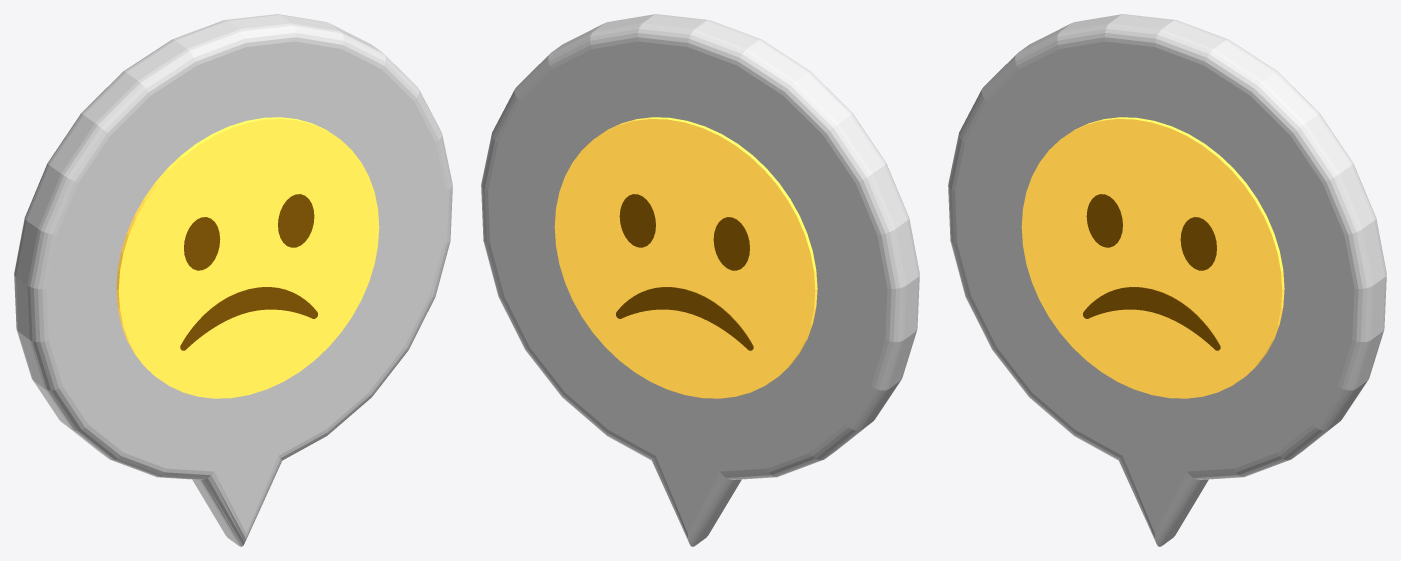
The model's file is frowning_face.glb.
The picture shows the model from 3 angles, left to right: view 1: azimuth 30°, elevation 25°; view 2: azimuth 150°, elevation 25°; view 3: azimuth 330°, elevation 25°; orthographic projection.
Parts seen in each view (by area): view 1: EmotionBubble; view 2: EmotionBubble; view 3: EmotionBubble.
Part boxes in pixels (<box>): EmotionBubble: <box>14,14,452,546</box>; EmotionBubble: <box>481,14,919,546</box>; EmotionBubble: <box>948,14,1386,546</box>.
Size of the model in its own units: 5.29 by 6.16 by 0.688.
